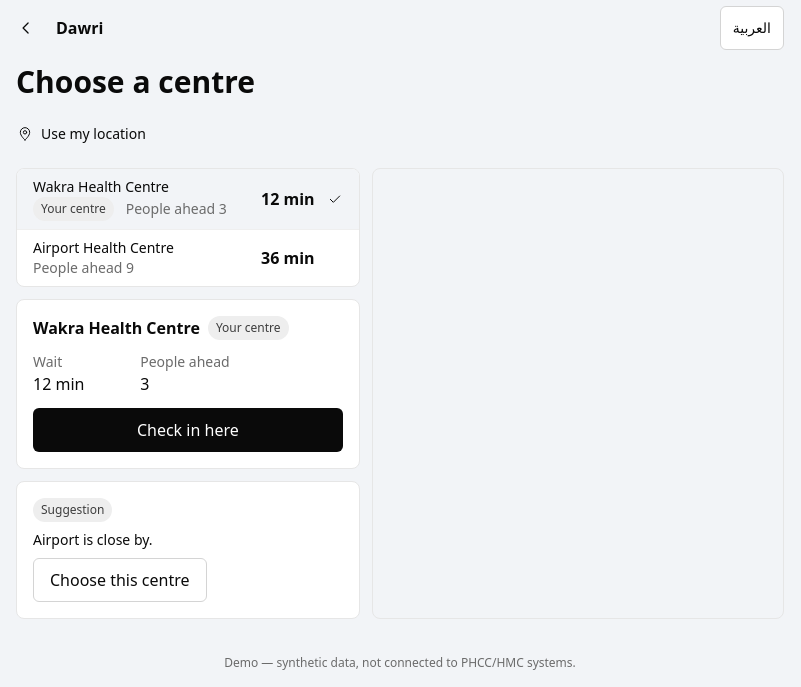
Scenario: S08 suggestion › moves the selection only when the patient chooses it
Click the button with test id "choose-suggested" at point(120, 580), box [33,558,206,602]
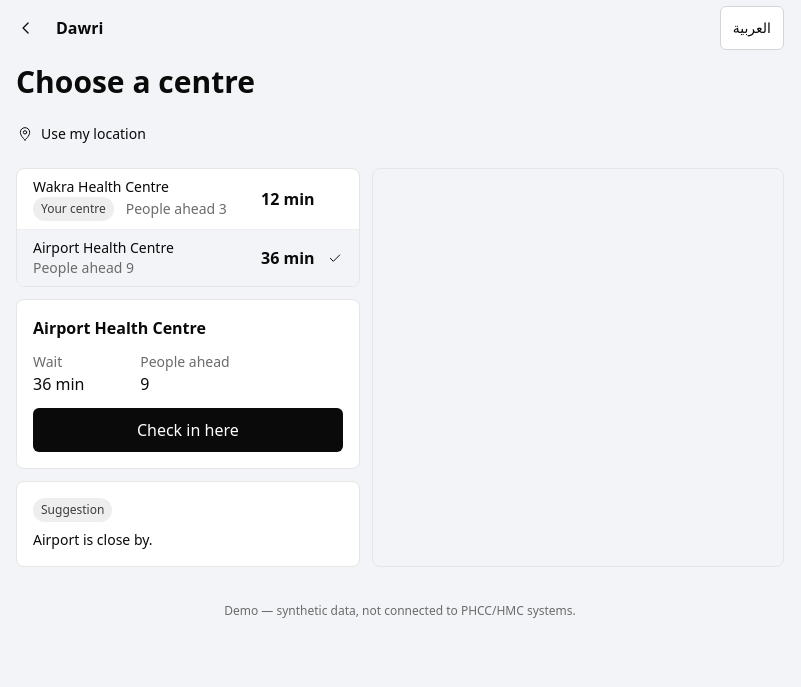
Now the heading "Airport Health Centre" is shown, box [33,316,206,340]
Now the button with test id "choose-suggested" is gone
